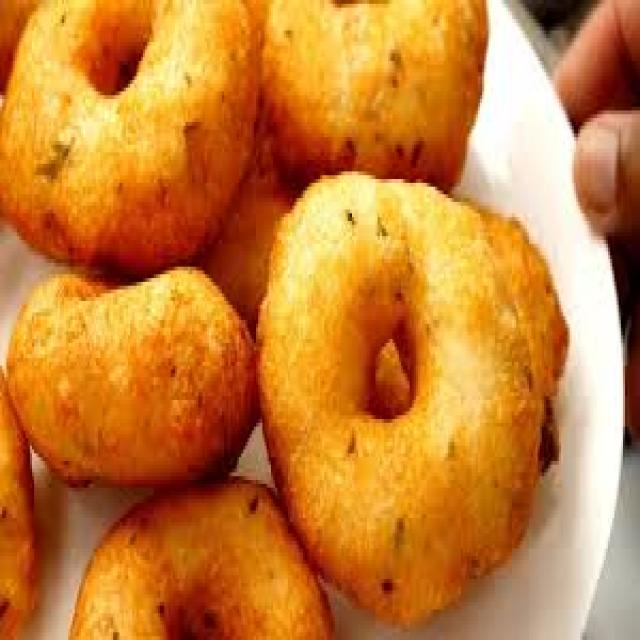MEDU VADA: (260, 175, 542, 613), (2, 0, 258, 274), (6, 267, 256, 480), (68, 476, 331, 636), (260, 0, 484, 187)
